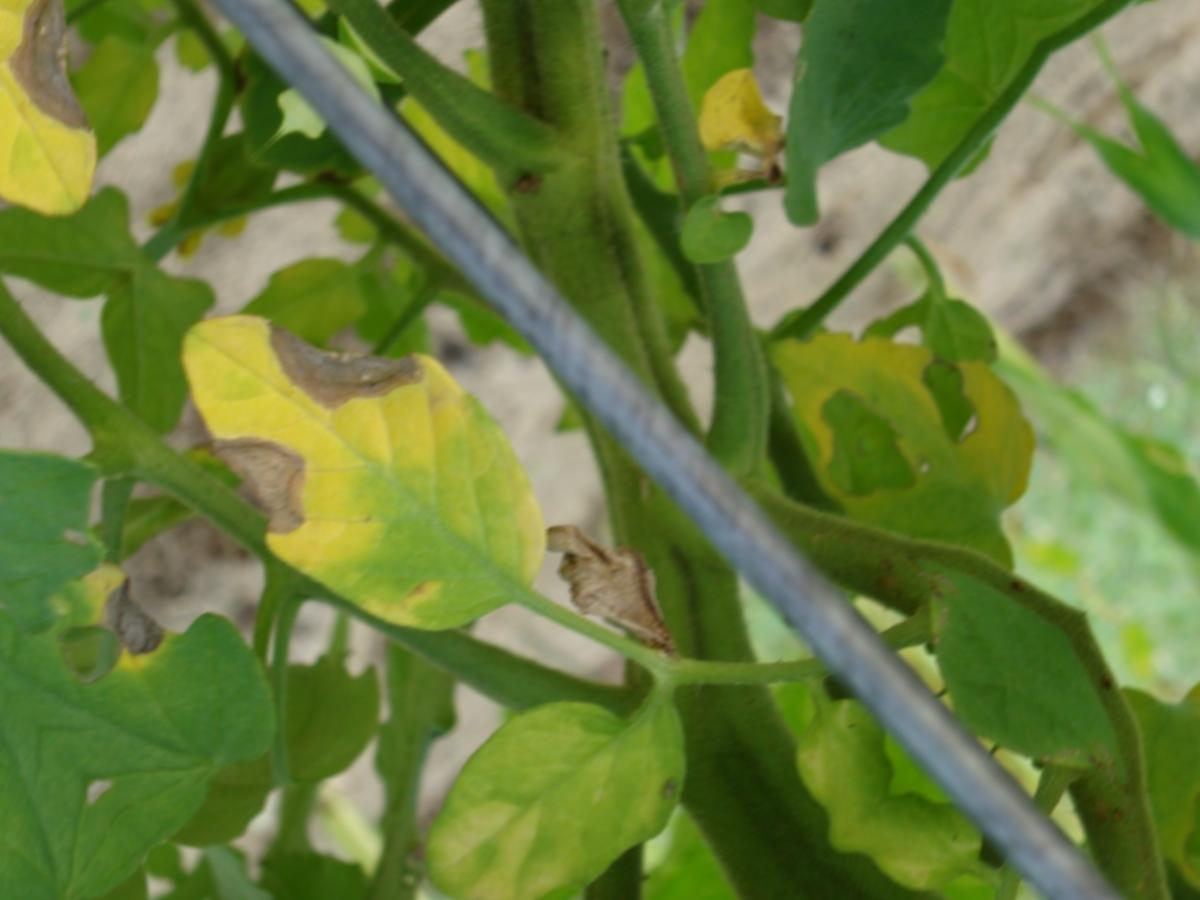Tomato Early blight leaf: (130, 214, 605, 697)
